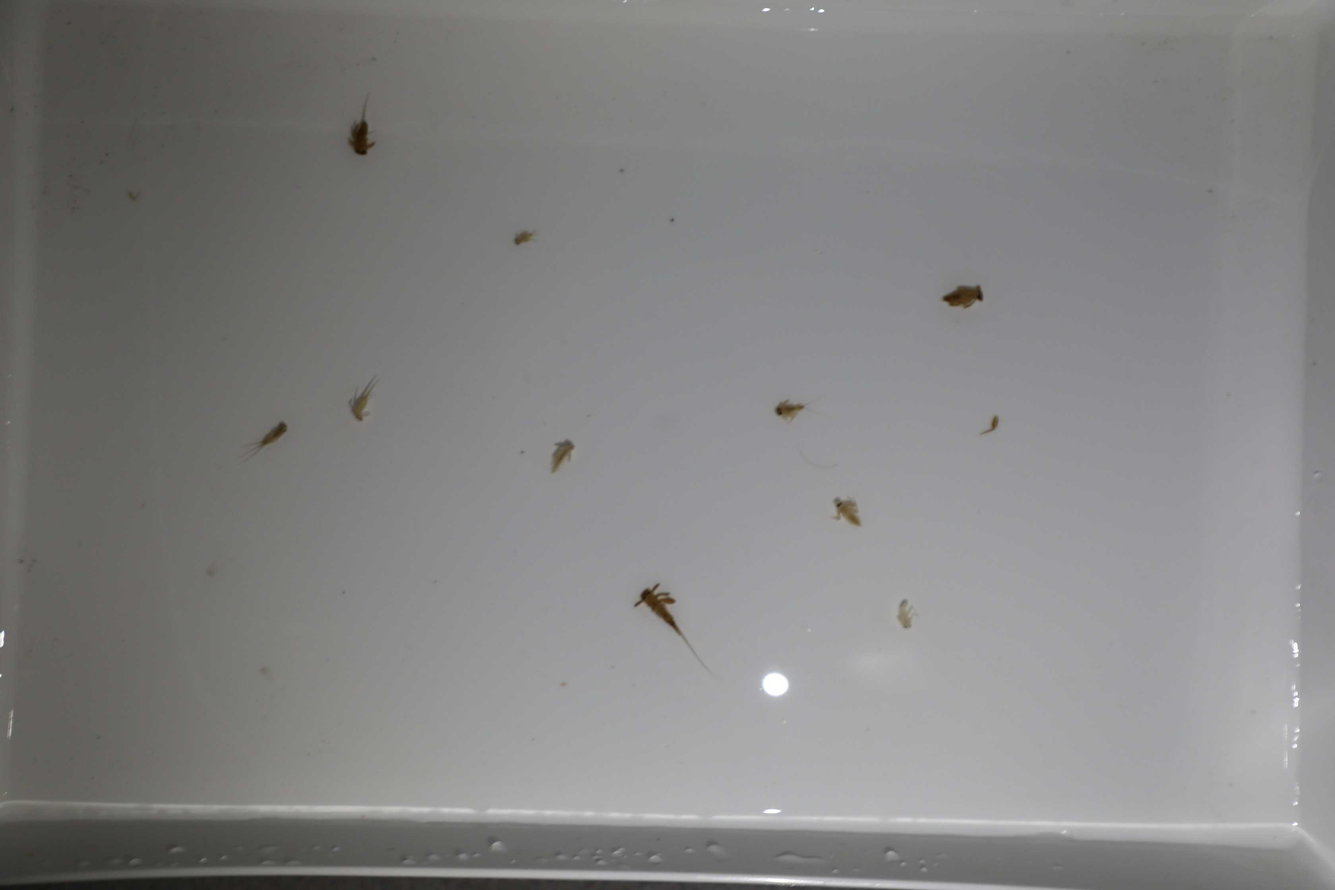Mayfly: (626, 583, 723, 680), (345, 92, 380, 162), (246, 418, 292, 459), (345, 376, 378, 429), (832, 489, 865, 530), (547, 438, 576, 481), (941, 286, 986, 312), (773, 400, 816, 423), (892, 598, 915, 634), (510, 228, 540, 249)
